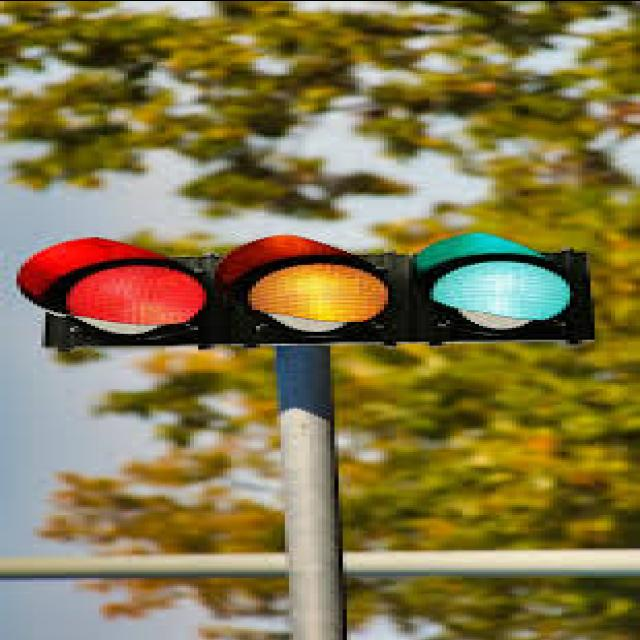green-lights: (428, 260, 570, 320)
red-lights: (64, 264, 204, 324)
yellow-lights: (246, 263, 388, 321)
